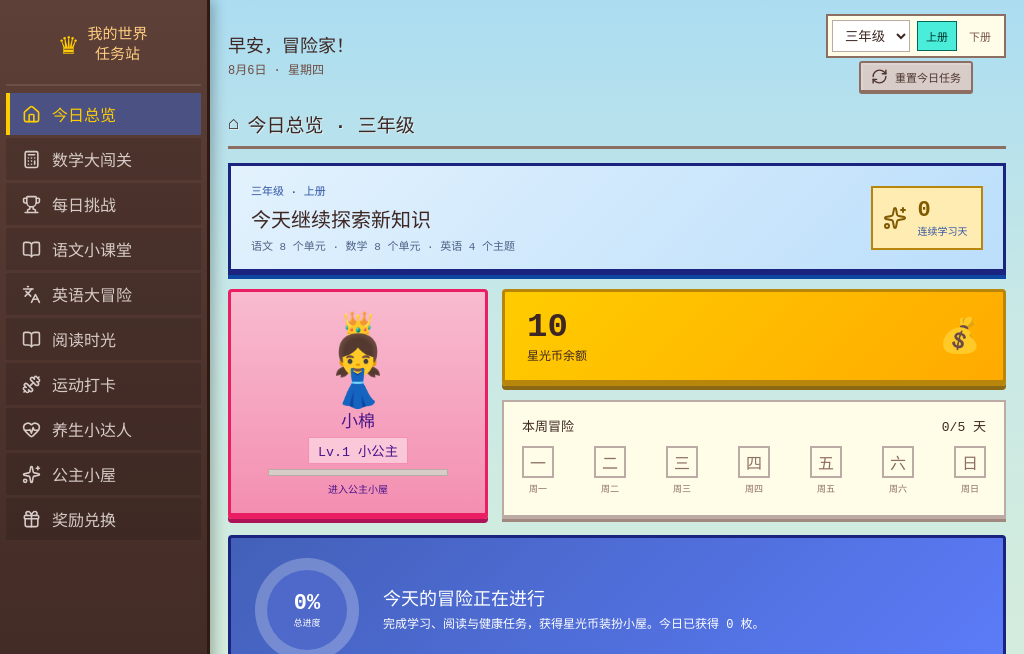
Test: English course reader › reads at the selected speed, hides translations, and saves progress
What coordinates should you click on to do the following:
click the button "英语大冒险"
I would click on:
 (104, 294)
Its box is [6,273,201,315].
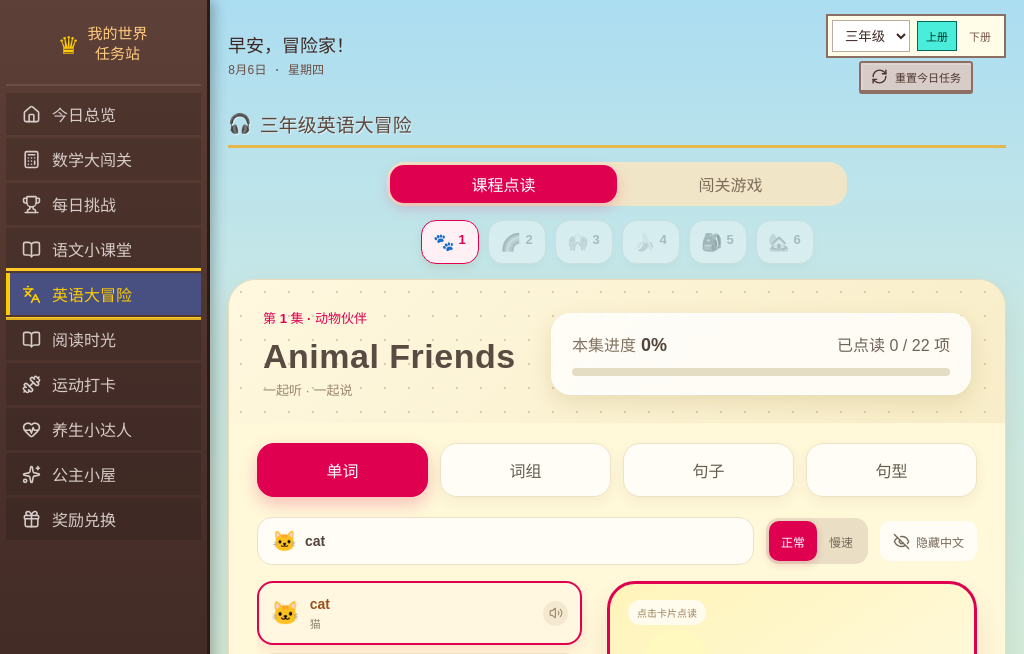
What coordinates should you click on to do the following:
click the button "慢速"
I would click on:
 (841, 541)
Its box is [817,521,865,561].
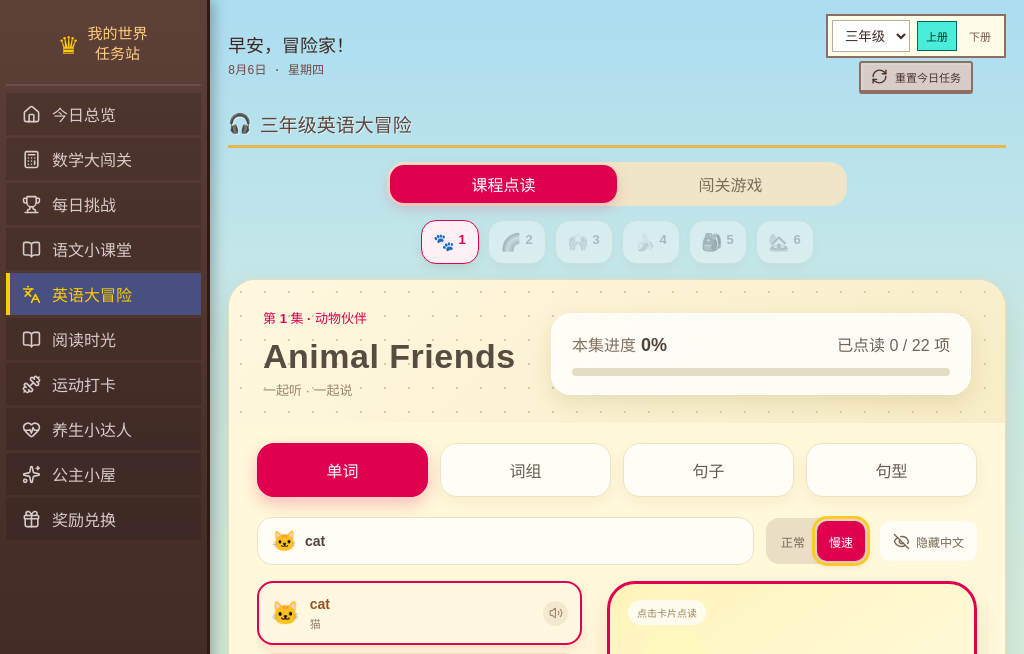
What coordinates should you click on to do the following:
click the button with aria-label "点读 cat"
I would click on:
 (285, 612)
Its box is [257,581,582,645].
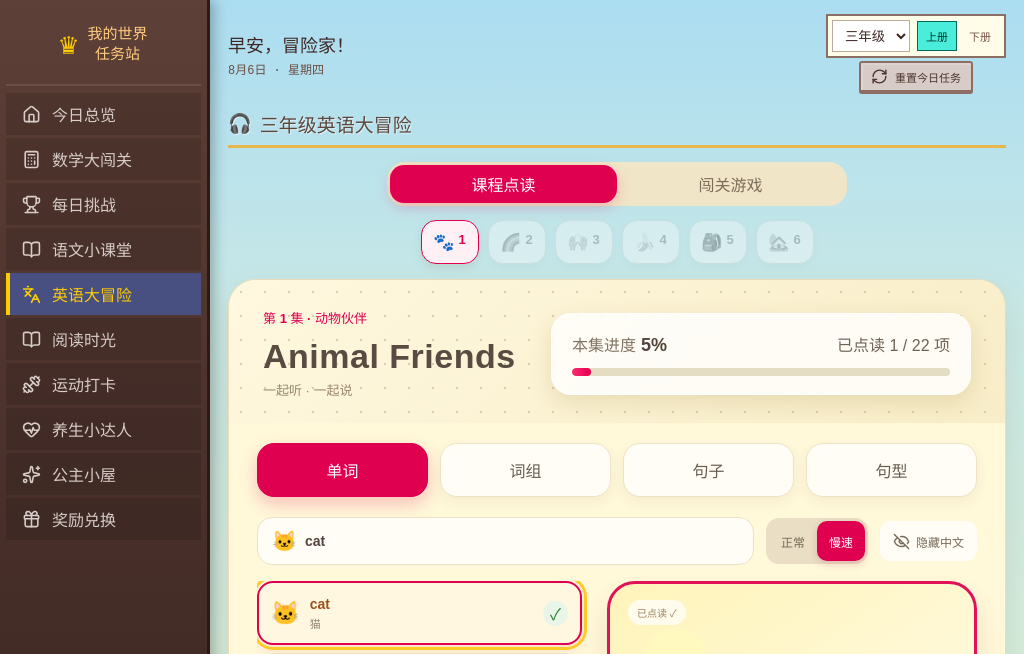
Now the progress indicator named "本集点读进度" has attribute aria-valuenow="1", box [572,368,950,376]
What coordinates should you click on to do the following:
click the button "隐藏中文"
I would click on:
 (928, 541)
Its box is [880,521,977,561].
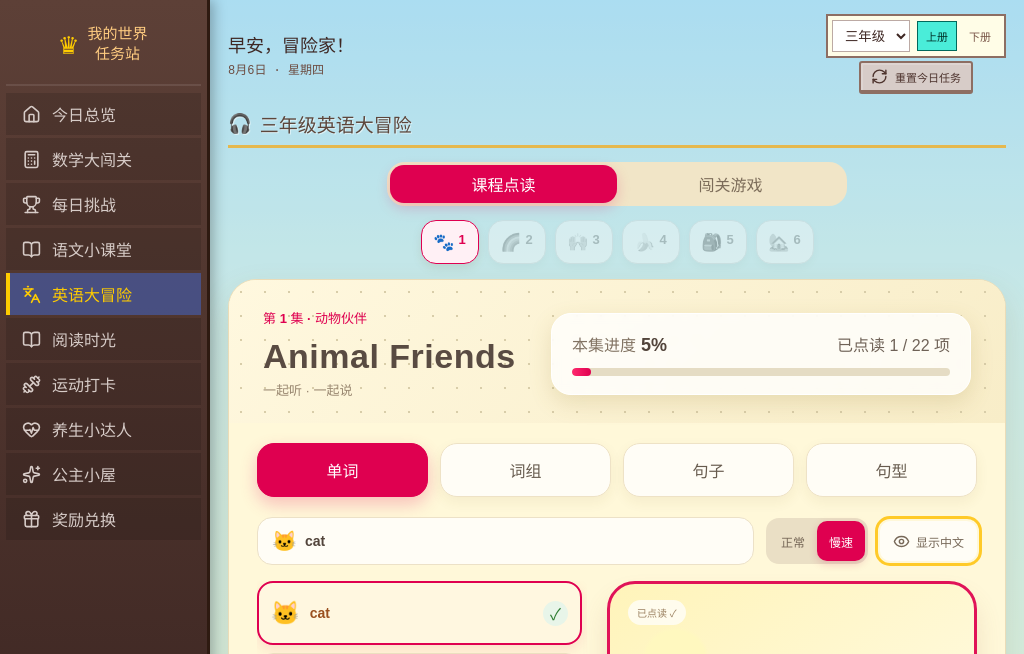
Now the button with aria-label "点读 cat，已点读" is shown, box [257,581,582,645]
Now the text "猫" is gone
